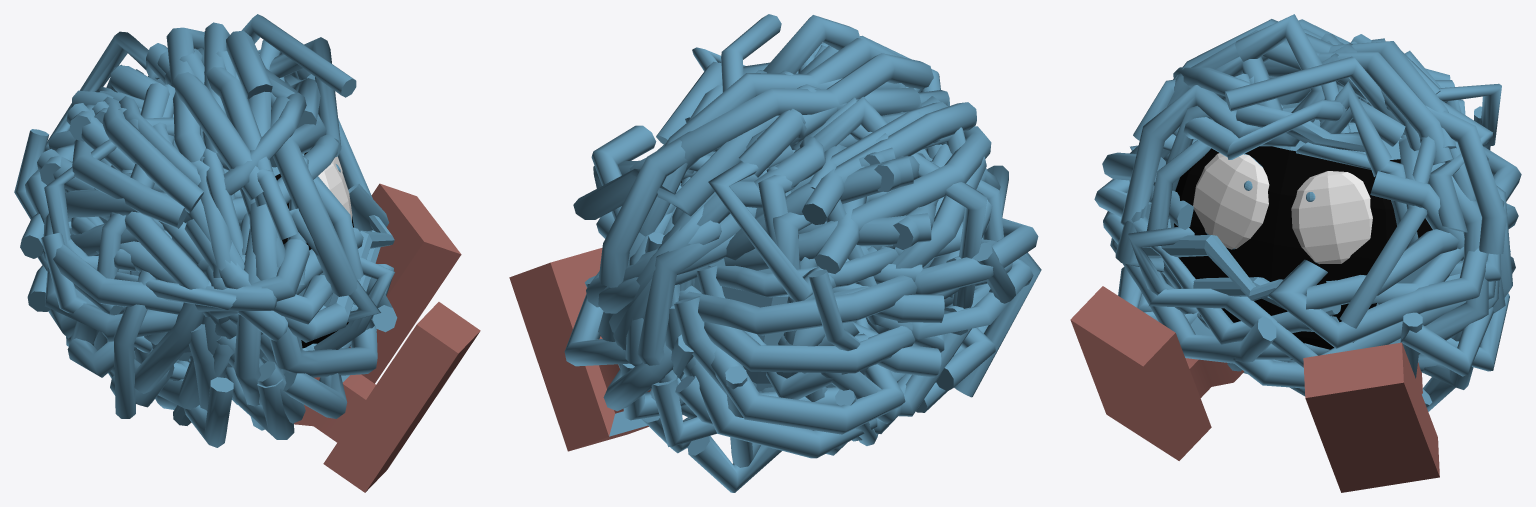
The model's file is saquedeneu.glb.
The picture shows the model from 3 angles, left to right: view 1: azimuth 30°, elevation 25°; view 2: azimuth 150°, elevation 25°; view 3: azimuth 270°, elevation 25°; orthographic projection. The views are drawn at different scales.
Parts seen in each view (by area): view 1: tangula; view 2: tangula; view 3: tangula.
Boxes of the visible parts, left/top/right/bottom form: tangula: left=14, top=14, right=480, bottom=492; tangula: left=509, top=14, right=1041, bottom=492; tangula: left=1070, top=14, right=1521, bottom=492.
Size of the model in its own units: 0.0799 by 0.0762 by 0.077.
